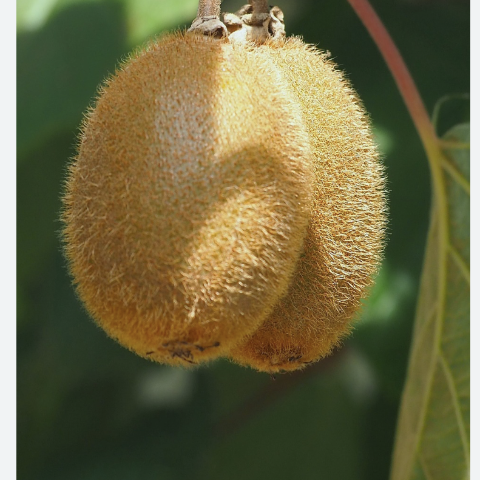kiwi: (60, 6, 312, 394)
